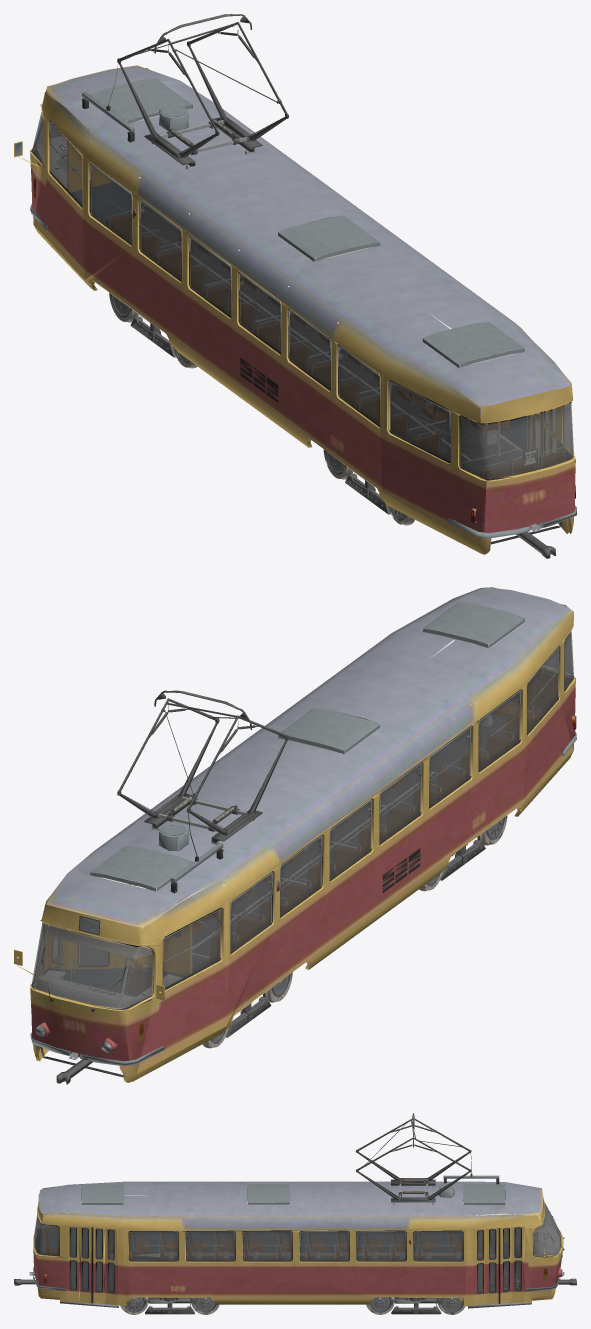
The model's file is tatra_t3.glb.
3 renders of one model, top to bottom at view 1: azimuth 30°, elevation 25°; view 2: azimuth 150°, elevation 25°; view 3: azimuth 270°, elevation 25°, orthographic. The views are drawn at different scales.
Visible parts, largest first — view 1: Object_4, Object_111, Object_13, Object_82, Object_11, Object_12, Object_7, Object_110, Object_112, Object_14, Object_72, Object_10 (+2 smaller); view 2: Object_4, Object_111, Object_13, Object_82, Object_12, Object_7, Object_11, Object_112, Object_25, Object_110, Object_176, Object_70 (+3 smaller); view 3: Object_4, Object_111, Object_7, Object_13, Object_82, Object_110, Object_11, Object_112, Object_72, Object_70, Object_14, Object_12 (+25 smaller).
Boxes of the visible parts, x1=… form: Object_4: x1=18, y1=65, x2=575, y2=554; Object_111: x1=32, y1=112, x2=573, y2=478; Object_13: x1=106, y1=214, x2=567, y2=478; Object_82: x1=108, y1=14, x2=288, y2=169; Object_11: x1=143, y1=206, x2=537, y2=472; Object_12: x1=141, y1=210, x2=568, y2=512; Object_7: x1=34, y1=119, x2=572, y2=529; Object_110: x1=31, y1=120, x2=571, y2=480; Object_112: x1=34, y1=121, x2=572, y2=478; Object_14: x1=72, y1=167, x2=565, y2=477; Object_72: x1=345, y1=467, x2=555, y2=558; Object_10: x1=141, y1=205, x2=522, y2=462; Object_4: x1=17, y1=587, x2=576, y2=1082; Object_111: x1=32, y1=631, x2=573, y2=1007; Object_13: x1=192, y1=672, x2=565, y2=963; Object_82: x1=117, y1=690, x2=288, y2=856; Object_12: x1=192, y1=713, x2=506, y2=972; Object_7: x1=33, y1=668, x2=572, y2=1014; Object_11: x1=192, y1=766, x2=436, y2=945; Object_112: x1=33, y1=647, x2=571, y2=1008; Object_25: x1=36, y1=970, x2=181, y2=1042; Object_110: x1=31, y1=646, x2=574, y2=1010; Object_176: x1=46, y1=924, x2=152, y2=958; Object_70: x1=56, y1=993, x2=271, y2=1084; Object_4: x1=33, y1=1173, x2=563, y2=1308; Object_111: x1=34, y1=1204, x2=561, y2=1260; Object_7: x1=35, y1=1213, x2=560, y2=1281; Object_13: x1=45, y1=1228, x2=462, y2=1260; Object_82: x1=355, y1=1113, x2=471, y2=1204; Object_110: x1=36, y1=1223, x2=560, y2=1261; Object_11: x1=35, y1=1229, x2=554, y2=1302; Object_112: x1=41, y1=1202, x2=558, y2=1253; Object_72: x1=14, y1=1279, x2=194, y2=1314; Object_70: x1=391, y1=1278, x2=576, y2=1314; Object_14: x1=44, y1=1227, x2=507, y2=1260; Object_12: x1=71, y1=1255, x2=516, y2=1287.
Size of the model in its own units: 2.59 by 5.16 by 14.6.
Materials: 56 (51 with a texture image).
